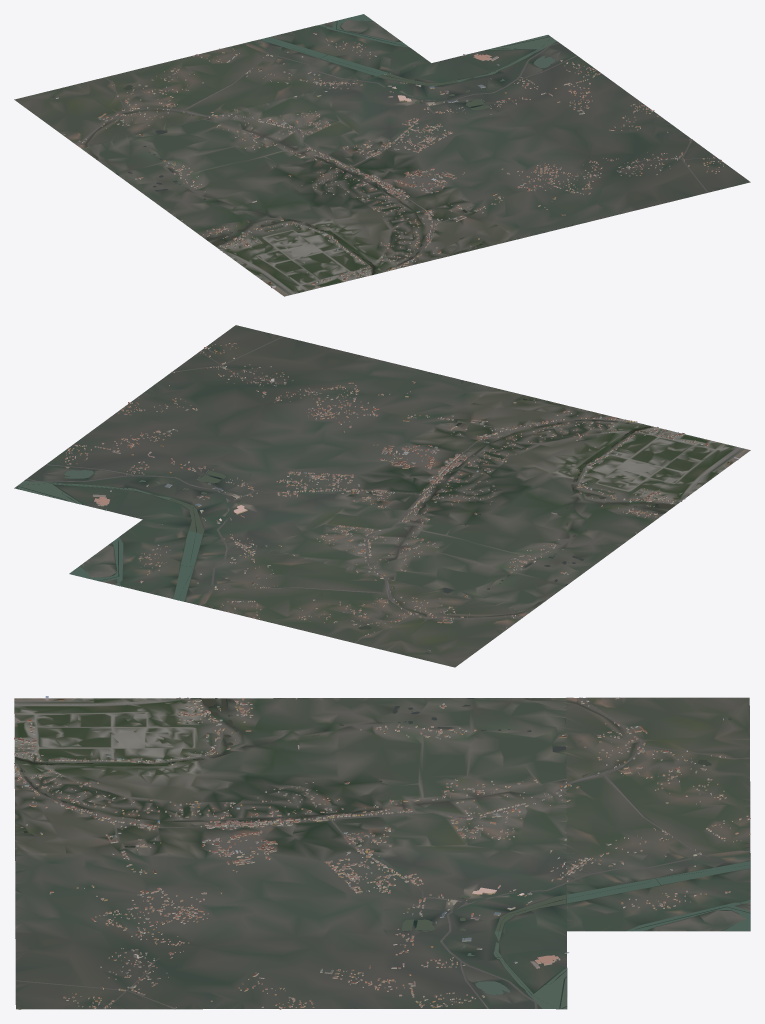
3 views of the same model, one above another, from view 1: azimuth 30°, elevation 25°; view 2: azimuth 150°, elevation 25°; view 3: azimuth 270°, elevation 25° (orthographic). The views are drawn at different scales.
Visible parts, largest first — view 1: ground, buildings, water, roads; view 2: ground, buildings, water, roads; view 3: ground, buildings, water, roads.
Boxes of the visible parts, x1,y1,x2,y2 form: ground: [14, 19, 750, 296]; buildings: [55, 33, 723, 288]; water: [52, 14, 745, 274]; roads: [75, 42, 717, 295]; ground: [14, 325, 750, 667]; buildings: [65, 343, 738, 651]; water: [14, 327, 675, 653]; roads: [26, 336, 744, 643]; ground: [14, 697, 750, 1009]; buildings: [14, 696, 750, 1009]; water: [15, 698, 750, 1008]; roads: [14, 697, 750, 1009].
Size of the model in its own units: 5633 by 30.6 by 5619.
